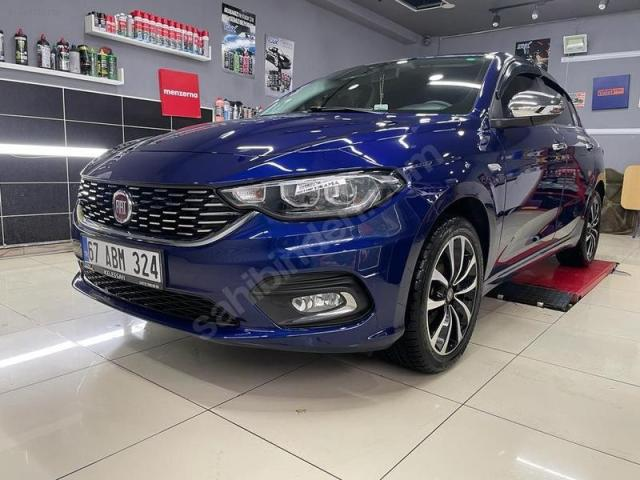plaka: (88, 239, 162, 285)
